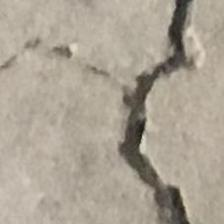Crack: (104, 18, 223, 224)
